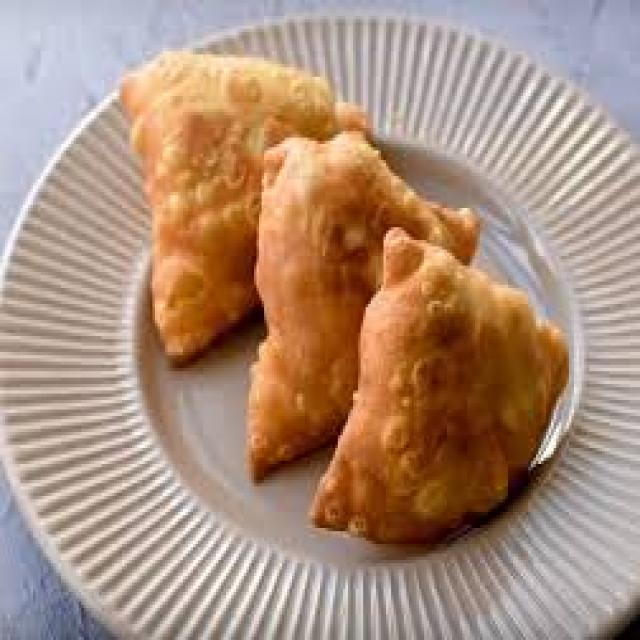SAMOSA: (246, 106, 477, 477), (310, 227, 566, 541), (119, 51, 366, 358)
